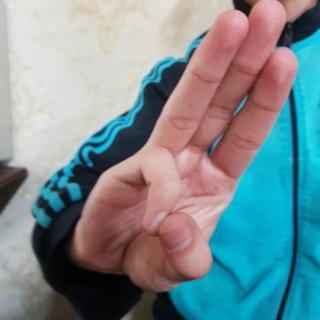THA: (71, 0, 306, 305)
